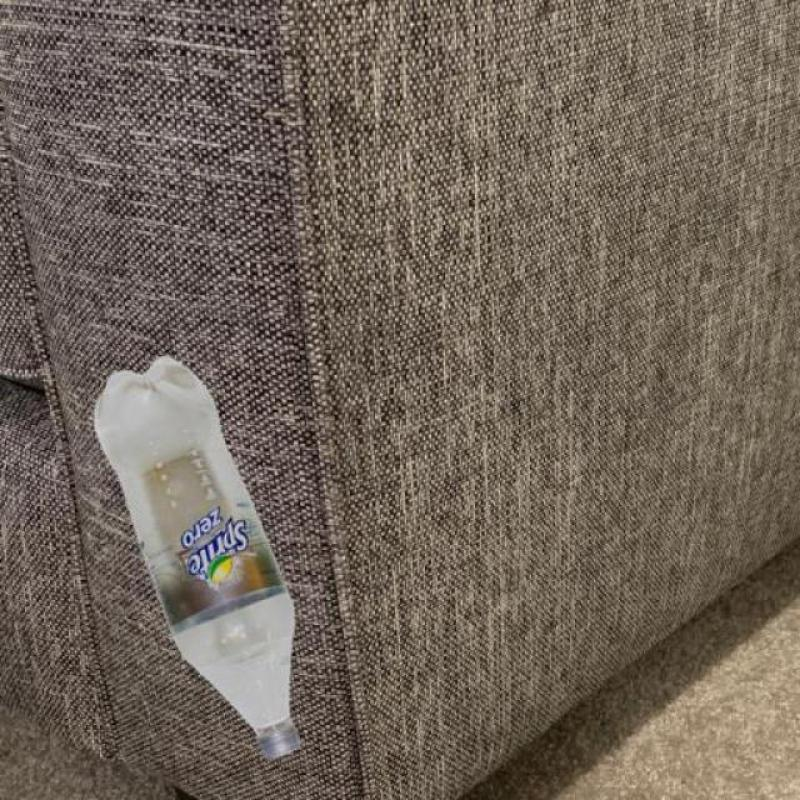botella: (85, 352, 303, 758)
